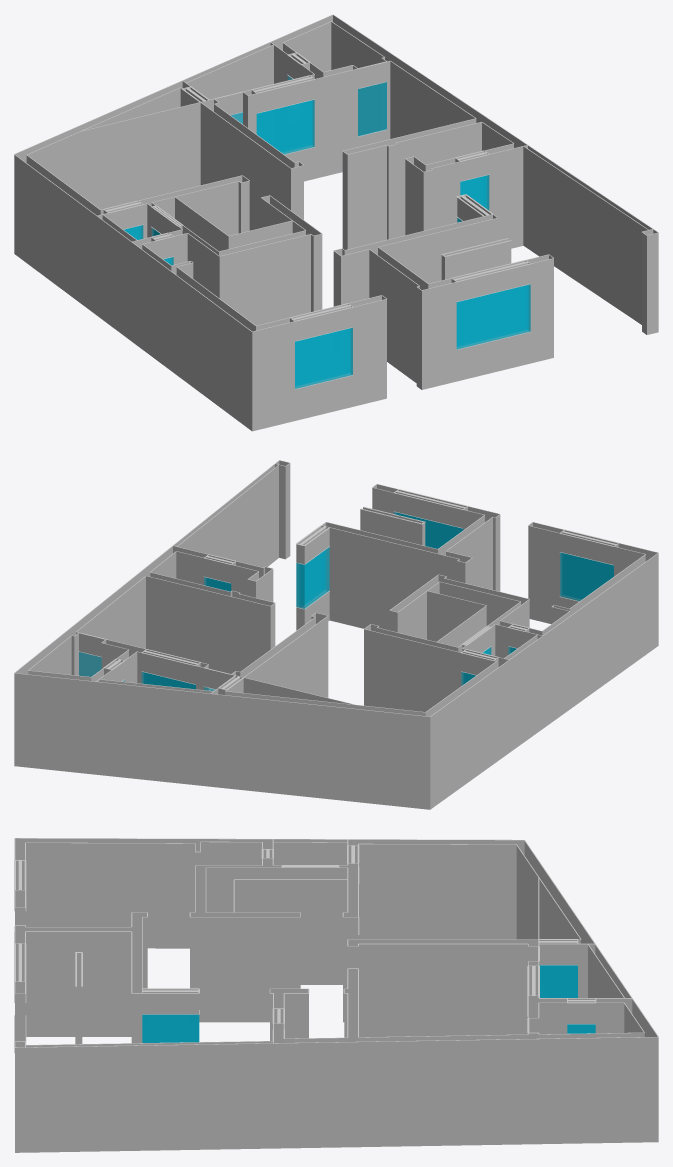
File: e79d7d81-617f-402d-87e7-7c8a9c342537_no_roof.glb
The picture shows the model from 3 angles, top to bottom: view 1: azimuth 30°, elevation 25°; view 2: azimuth 150°, elevation 25°; view 3: azimuth 270°, elevation 25°; orthographic projection. The views are drawn at different scales.
Parts seen in each view (by area): view 1: walls, windows; view 2: walls, windows; view 3: walls, windows.
Boxes of the visible parts, x1,y1,x2,y2 form: walls: [14, 14, 658, 431]; windows: [124, 75, 530, 388]; walls: [14, 460, 658, 809]; windows: [79, 512, 613, 691]; walls: [14, 838, 658, 1152]; windows: [142, 965, 595, 1042].
Size of what is drawn, in the model's own units: 10.69 by 2.5 by 13.89.
